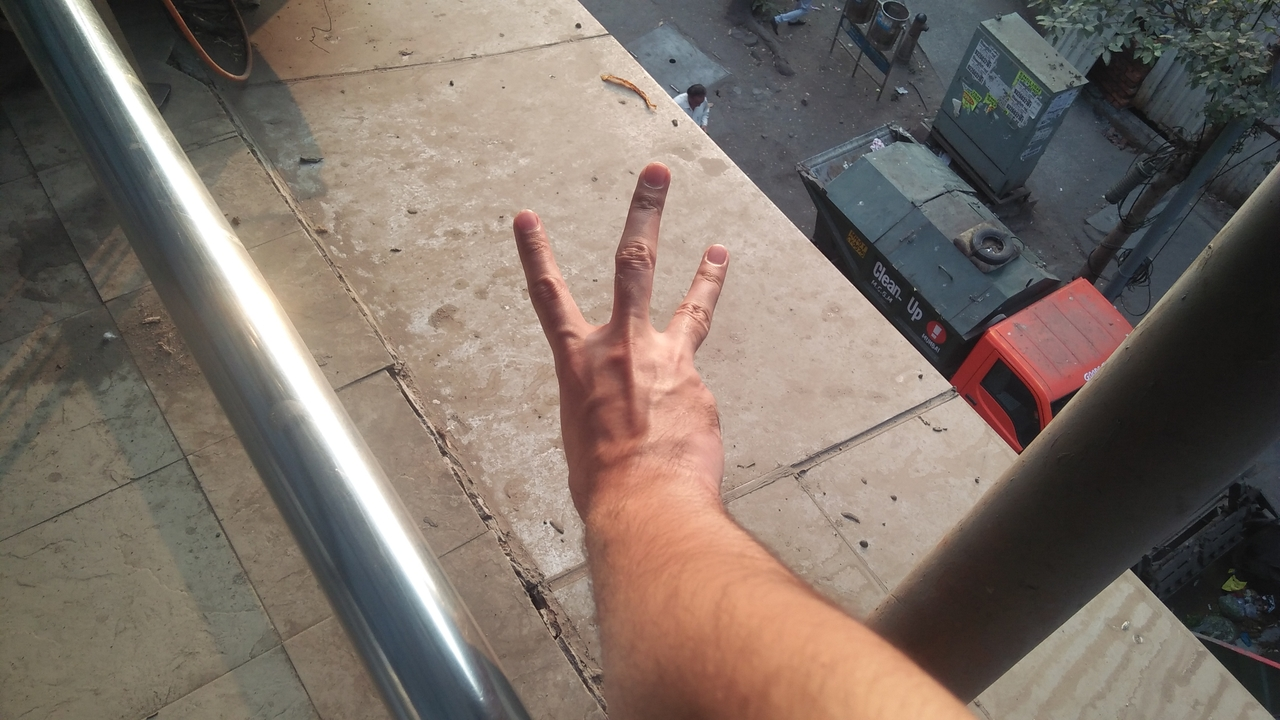fingertip: (690, 226, 742, 280), (502, 194, 552, 246), (626, 146, 678, 196)
